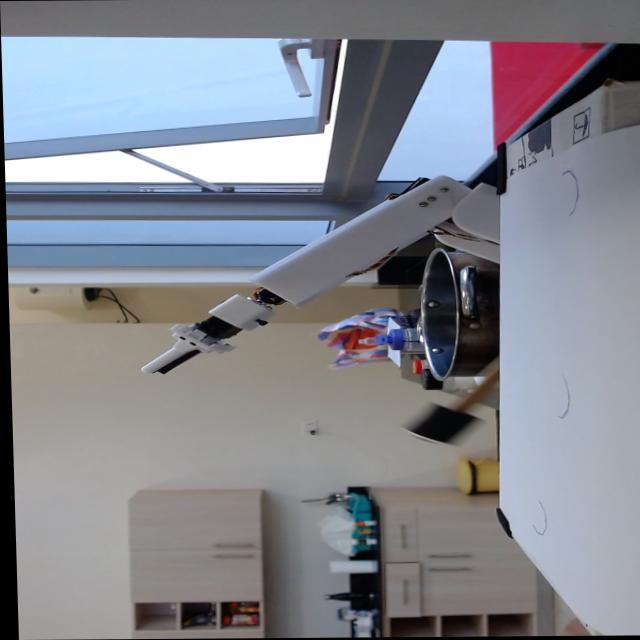cooking_pot: (413, 249, 500, 380)
spatula: (393, 374, 497, 446)
